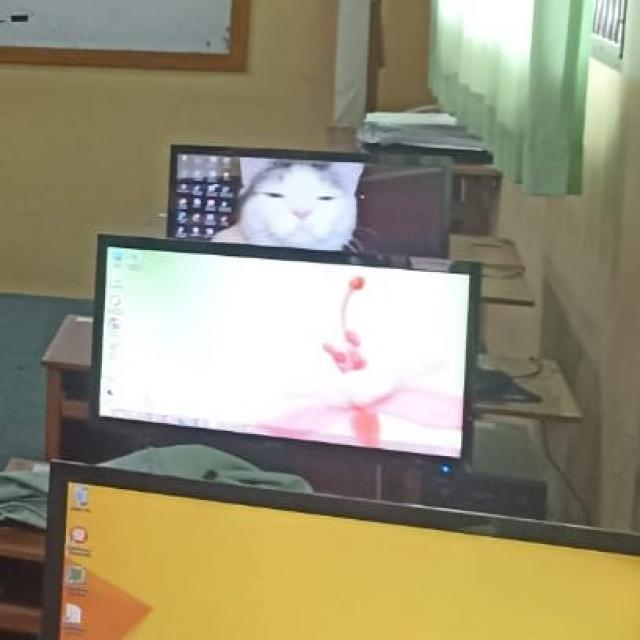onscreen: (42, 461, 640, 640), (102, 249, 469, 457), (169, 147, 448, 256)
